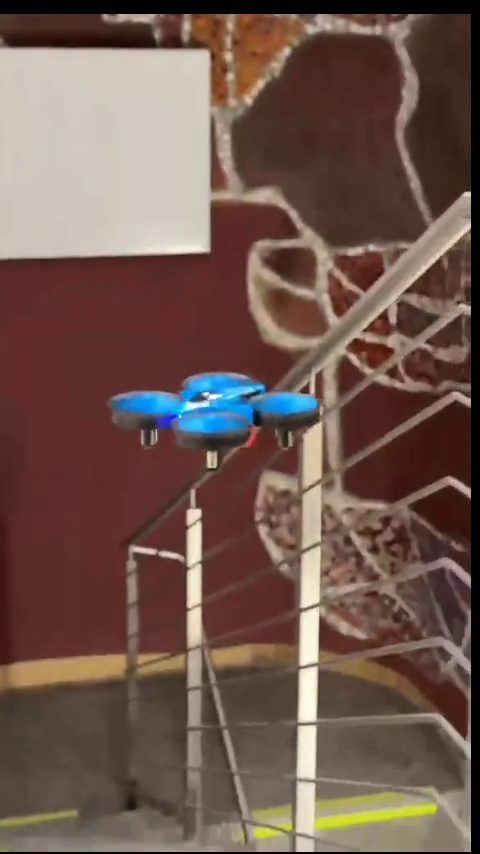drone: (106, 368, 317, 470)
